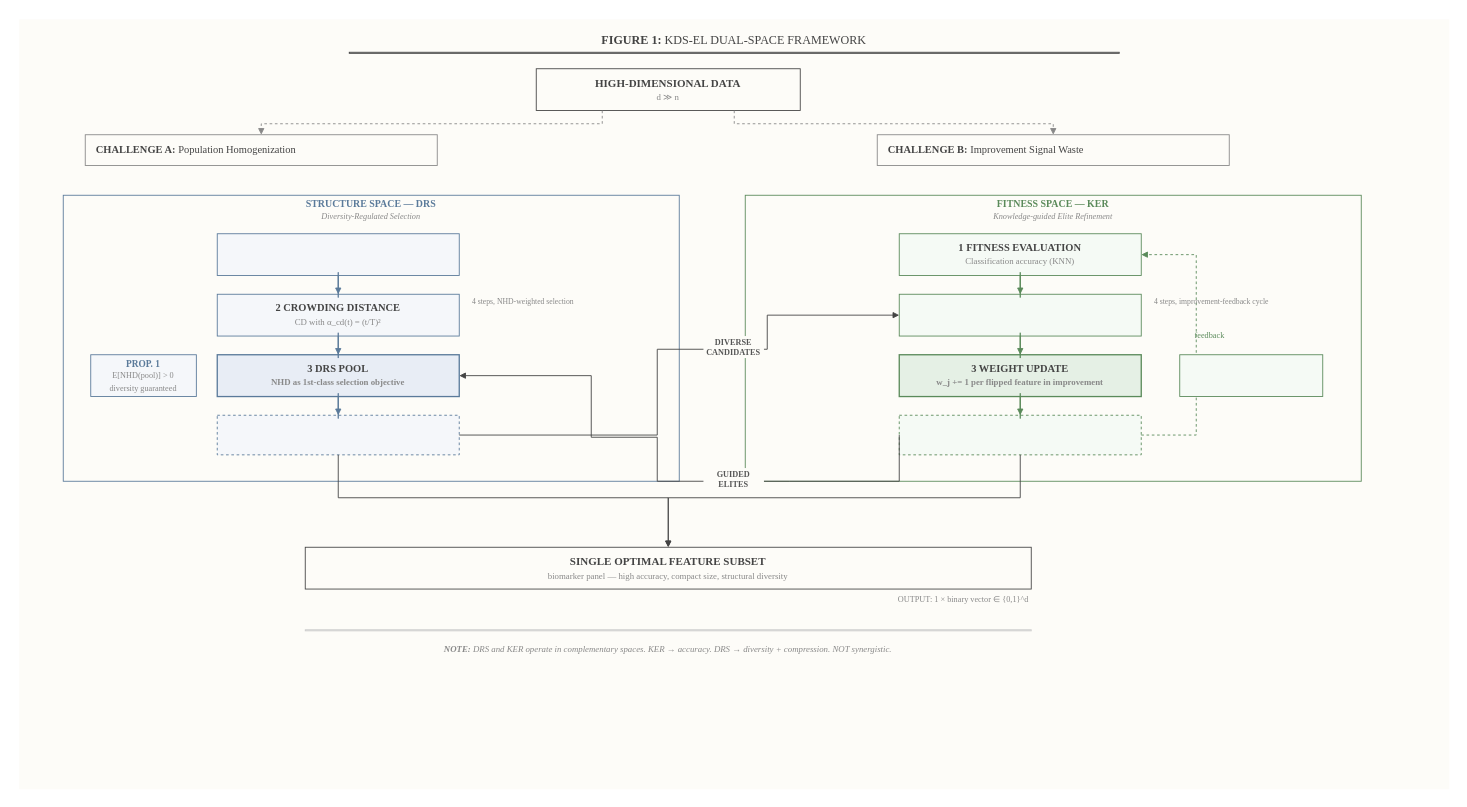
Some shapes in this 1467 by 807 pixel diagram are drawn without their labels. Each missing label, with the centre of its shape:
"1 NHD MATRIX NHD(i,j) = Hamming(i,j) / d" belongs at point (337, 254).
"2 IMPROVEMENT DETECTION f(x') > f(Pbest) → record event" belongs at point (1019, 314).
"4 DIVERSE CANDIDATE POOL" belongs at point (337, 434).
"4 FEATURE IMPORTANCE VECTOR w" belongs at point (1019, 434).
"PROP. 2 P(flip j) ≥ (1/N)(w_j/Σw)·p_mut any subset reachable" belongs at point (1251, 375).
